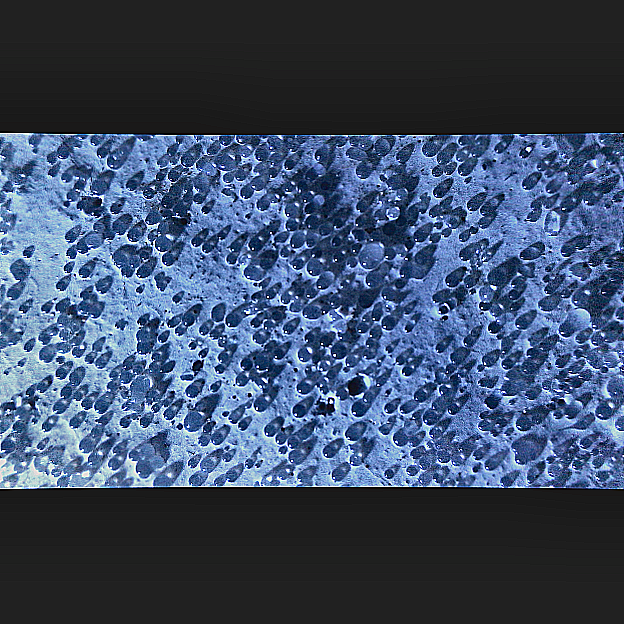GrassBeadSeg: (9, 174, 607, 479), (56, 150, 556, 487), (0, 170, 552, 401), (124, 180, 589, 448), (58, 173, 576, 411), (41, 254, 582, 469), (151, 200, 551, 488), (1, 166, 547, 372), (119, 200, 572, 445), (152, 202, 540, 484), (159, 173, 573, 431), (109, 181, 498, 455), (145, 165, 607, 389), (59, 179, 472, 428), (142, 134, 469, 444), (52, 140, 552, 336), (69, 200, 553, 402), (45, 171, 515, 377), (145, 163, 553, 393), (260, 164, 609, 419), (77, 137, 612, 303), (127, 143, 438, 427), (68, 183, 557, 358), (203, 146, 534, 404), (0, 150, 285, 445), (27, 235, 420, 448), (9, 288, 439, 482), (148, 199, 480, 445), (153, 173, 441, 438), (196, 205, 475, 472), (58, 202, 484, 373), (47, 326, 494, 487), (130, 275, 504, 467), (293, 256, 601, 483), (74, 243, 518, 394), (0, 194, 252, 459), (74, 283, 497, 437), (65, 249, 586, 371), (137, 248, 485, 419), (49, 317, 396, 486), (34, 209, 260, 468), (247, 178, 478, 430), (231, 187, 513, 387), (53, 342, 603, 442), (1, 205, 317, 375), (155, 260, 421, 459), (52, 275, 550, 381), (209, 249, 471, 445), (20, 250, 502, 356), (133, 237, 342, 478), (455, 133, 610, 452), (71, 226, 475, 339), (426, 213, 602, 468), (66, 350, 449, 463), (438, 233, 606, 482), (187, 337, 469, 485), (84, 353, 431, 469), (281, 204, 551, 352), (182, 273, 500, 398), (45, 168, 351, 297), (107, 204, 357, 360), (82, 182, 294, 364), (57, 313, 502, 399), (159, 170, 318, 408), (118, 267, 586, 343), (419, 142, 512, 488), (35, 335, 445, 411), (16, 305, 540, 364), (171, 186, 346, 359), (17, 317, 348, 401), (20, 301, 490, 360), (464, 200, 560, 478), (202, 185, 467, 285), (244, 238, 531, 330), (286, 356, 514, 464), (125, 408, 578, 462), (19, 305, 406, 366), (212, 158, 333, 348), (13, 388, 266, 473), (40, 148, 143, 355), (53, 147, 124, 444), (67, 411, 590, 448), (201, 377, 386, 473), (53, 288, 316, 353), (38, 305, 392, 353), (475, 136, 612, 258), (44, 155, 117, 373), (382, 253, 492, 395), (71, 205, 186, 340), (69, 374, 498, 409), (183, 383, 623, 417), (61, 181, 132, 390), (165, 245, 344, 327), (330, 251, 404, 441), (363, 227, 479, 348), (391, 365, 561, 446), (76, 421, 491, 454), (3, 289, 295, 335), (376, 229, 464, 379), (79, 400, 441, 436), (35, 183, 107, 363), (34, 383, 283, 435), (441, 274, 529, 415), (0, 184, 201, 244), (293, 382, 612, 419), (265, 425, 527, 470), (381, 248, 478, 368), (407, 306, 533, 393), (173, 422, 526, 453), (199, 206, 329, 290), (324, 231, 427, 334), (260, 150, 330, 299), (349, 372, 531, 429), (213, 154, 446, 198), (89, 175, 317, 218), (226, 207, 441, 252), (507, 289, 623, 372), (97, 358, 238, 425), (377, 197, 457, 314), (215, 317, 327, 393), (260, 220, 298, 438), (328, 237, 601, 267), (199, 329, 323, 392), (277, 411, 392, 478), (237, 360, 330, 442), (92, 334, 317, 367), (151, 184, 259, 252), (185, 366, 414, 397), (17, 361, 137, 419), (190, 217, 288, 287), (235, 134, 399, 175), (319, 305, 388, 402), (344, 149, 447, 213), (378, 317, 603, 346), (521, 148, 622, 212), (221, 454, 441, 483), (375, 302, 461, 376), (0, 388, 106, 448), (327, 345, 451, 396), (302, 271, 503, 299), (303, 260, 492, 289), (95, 267, 169, 341), (502, 419, 623, 464), (510, 280, 623, 328), (387, 414, 482, 471), (0, 279, 61, 367), (244, 181, 329, 242), (411, 390, 532, 431), (441, 317, 507, 392), (80, 186, 137, 267), (261, 399, 336, 458), (494, 363, 564, 426), (202, 402, 284, 454), (240, 266, 268, 413), (351, 206, 440, 251), (37, 419, 103, 476), (14, 275, 99, 319), (159, 324, 224, 381), (193, 158, 275, 203), (136, 133, 170, 241), (303, 201, 380, 246), (397, 227, 488, 265), (387, 422, 443, 483), (526, 448, 618, 484), (114, 139, 192, 181), (560, 241, 617, 297), (142, 180, 202, 233), (555, 350, 623, 396), (0, 390, 49, 453), (86, 228, 140, 285), (5, 406, 48, 476), (89, 134, 175, 169), (453, 138, 479, 251), (55, 258, 137, 291), (289, 404, 360, 441), (230, 438, 301, 472), (432, 338, 513, 367), (64, 192, 79, 346), (378, 404, 409, 478), (0, 137, 37, 193), (289, 293, 355, 322), (249, 294, 299, 330), (218, 134, 277, 164), (172, 310, 238, 336), (251, 281, 295, 319), (114, 323, 167, 354), (478, 355, 517, 397), (378, 288, 494, 301), (549, 358, 582, 402), (266, 158, 305, 190), (31, 133, 83, 155), (116, 409, 175, 428), (447, 205, 490, 231), (395, 150, 448, 169), (63, 173, 87, 208), (430, 152, 463, 177), (185, 453, 232, 467), (76, 266, 90, 313), (118, 318, 149, 337), (0, 187, 8, 254)
